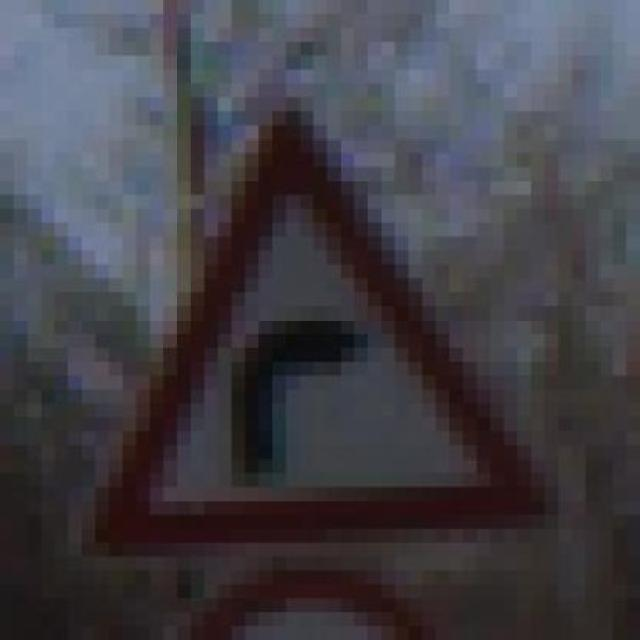Dangerous Rright Curve Ahead: (68, 97, 572, 557)
